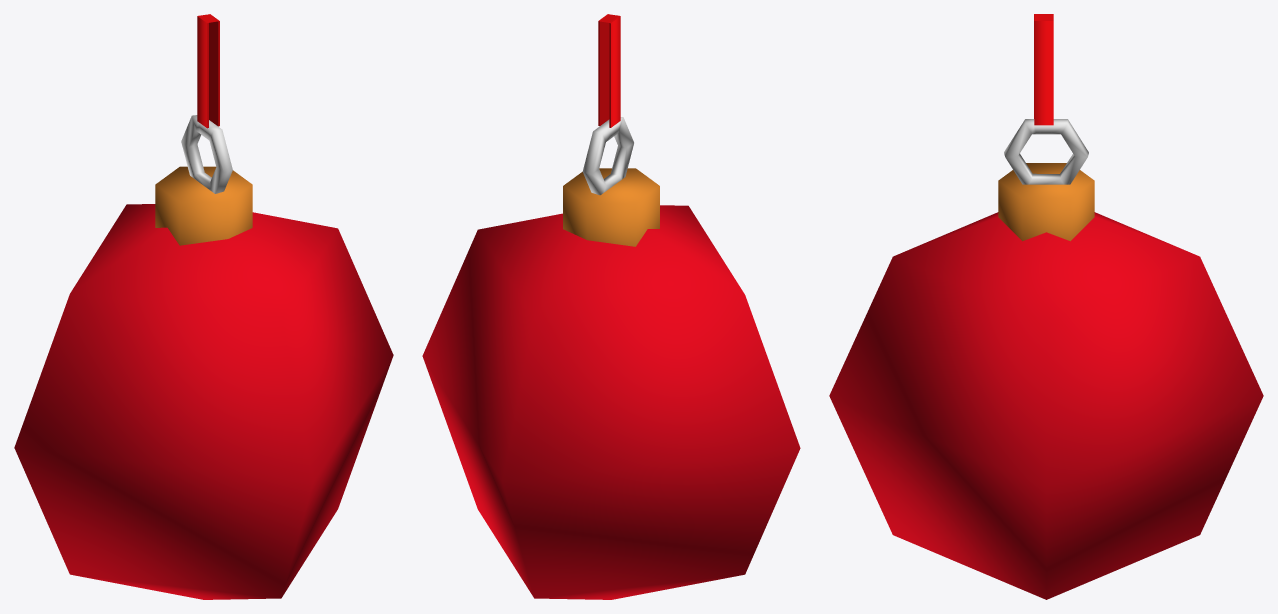
The model's file is ballLow.fbx.
The picture shows the model from 3 angles, left to right: view 1: azimuth 30°, elevation 25°; view 2: azimuth 150°, elevation 25°; view 3: azimuth 270°, elevation 25°; orthographic projection.
Parts seen in each view (by area): view 1: ballLow; view 2: ballLow; view 3: ballLow.
Boxes of the visible parts, left/top/right/bottom form: ballLow: left=14, top=14, right=393, bottom=599; ballLow: left=422, top=14, right=800, bottom=599; ballLow: left=829, top=14, right=1263, bottom=599.
Bounding box in the file's own units: 0.1928 × 0.2826 × 0.1928.
